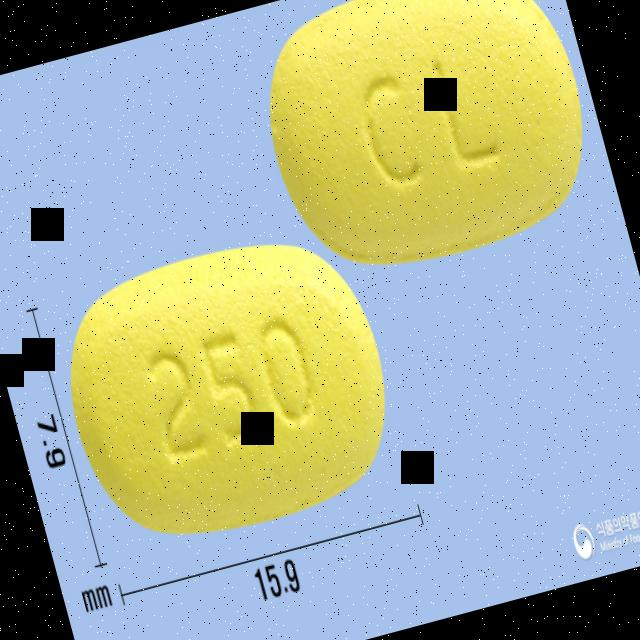Clao: (37, 209, 424, 573), (235, 0, 616, 296)
